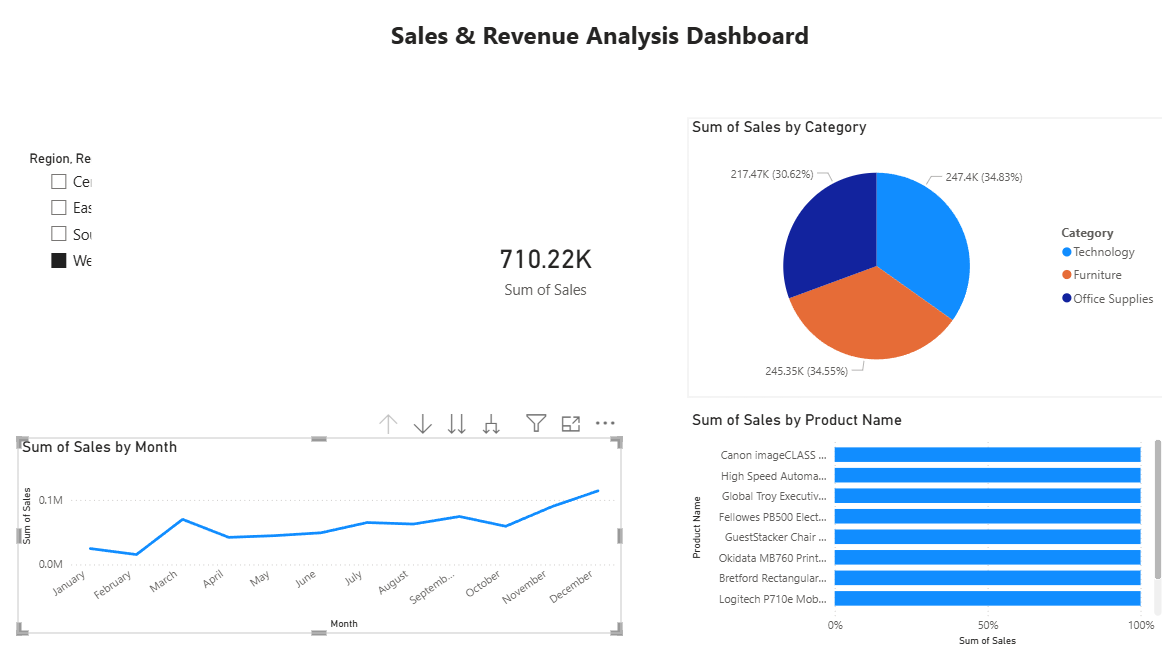

This screenshot's page, from the dashboard's own definition file:
{"tool":"powerbi","page":{"name":"Page 1","canvas":[1280,720],"ordinal":0},"visuals":[{"type":"card","fields":{"Values":["Sum(train.Sales)"]},"box":[433.6,183.9,330.7,229.2],"z":0},{"type":"lineChart","fields":{"Category":["train.Order Date.Variation.Date Hierarchy.Month","train.Order Date.Variation.Date Hierarchy.Day"],"Y":["Sum(train.Sales)"]},"box":[19.2,485.8,662.8,215.4],"z":1000},{"type":"pieChart","fields":{"Category":["train.Category"],"Y":["Sum(train.Sales)"]},"box":[754.7,134.5,525.6,307.4],"z":2000},{"type":"hundredPercentStackedBarChart","fields":{"Category":["train.Product Name"],"Y":["Sum(train.Sales)"]},"box":[754.7,455.6,525.6,264.8],"z":3000},{"type":"slicer","fields":{"Values":["train.Region","train.Region"]},"box":[19.2,166,395.2,264.8],"z":4000},{"type":"textbox","box":[100,100,300,300],"z":5000},{"type":"textbox","box":[424,20.6,496.7,113.9],"z":5001}]}

Visuals, with their boxes in screenshot pixels (x1, y1, x2, y2), scaled from the page's 1280x720 canvas onto the 1164x650 screenshot:
card - Sum(train.Sales): locate(394, 166, 695, 373)
lineChart - train.Order Date.Variation.Date Hierarchy.Month x train.Order Date.Variation.Date Hierarchy.Day: locate(17, 439, 620, 633)
pieChart - train.Category x Sum(train.Sales): locate(686, 121, 1163, 399)
hundredPercentStackedBarChart - train.Product Name x Sum(train.Sales): locate(686, 411, 1163, 649)
slicer - train.Region x train.Region: locate(17, 150, 377, 389)
textbox: locate(91, 90, 364, 361)
textbox: locate(386, 19, 837, 121)
